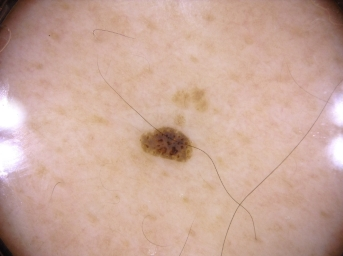seborrheic keratosis: (121, 108, 217, 178)
